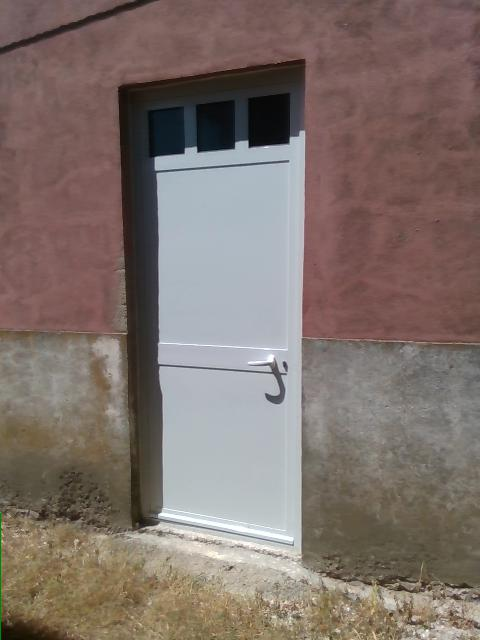closed_door: (118, 57, 306, 559)
